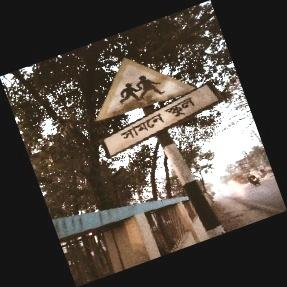School-in-front: (95, 57, 220, 164)
